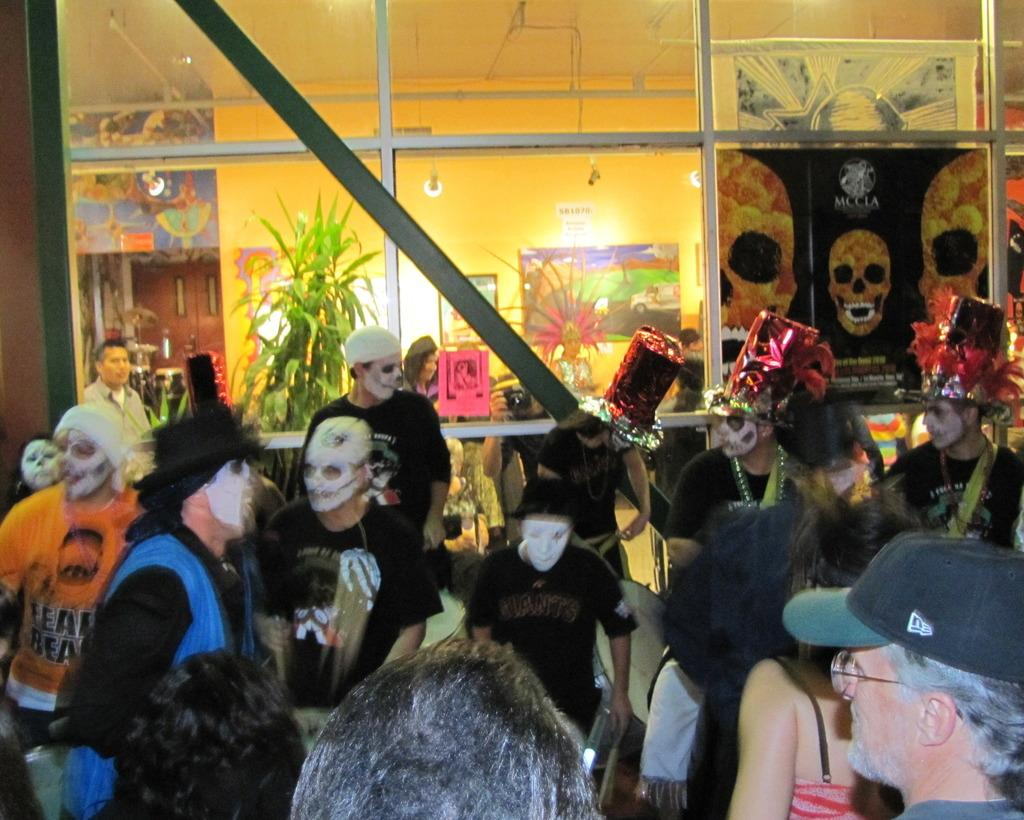Hat: (780, 532, 1022, 686), (899, 286, 1023, 410), (134, 399, 266, 492), (712, 307, 826, 414), (766, 372, 848, 466)
